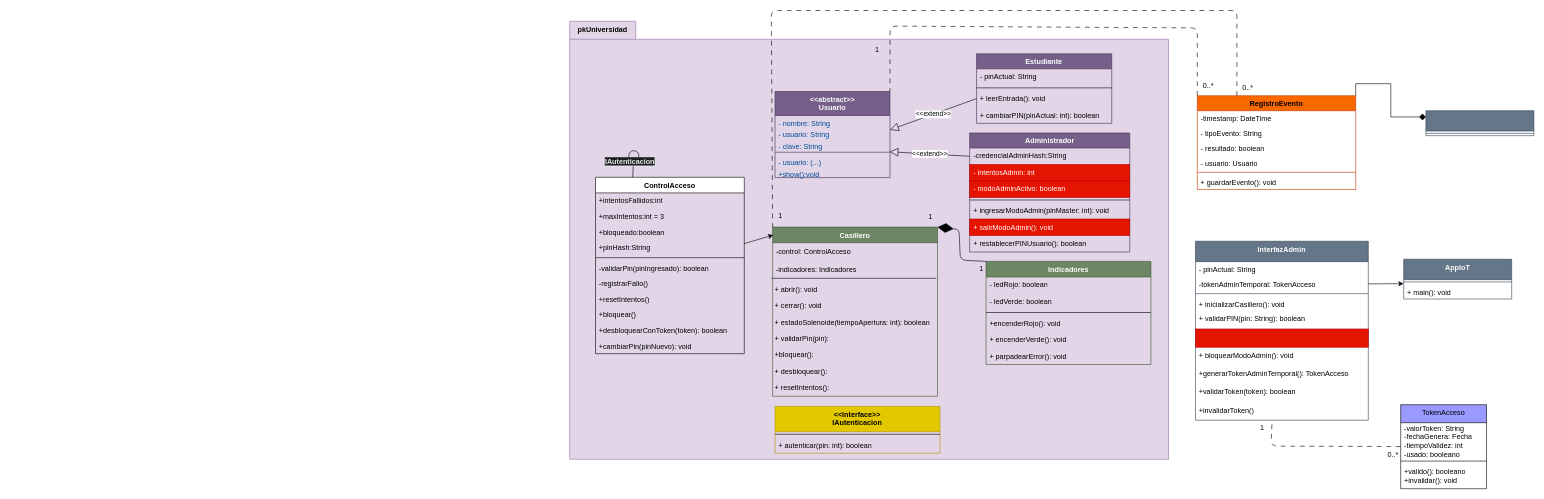
Image size: 1544x499. Some labels were removed from this diagram. Here are the shapes that lost their labels. From the top down, the centre of each, then its label:
At (x=1479, y=123): "Auditoria".
At (x=1281, y=337): "+ activarModoAdmin(int): boolean".
